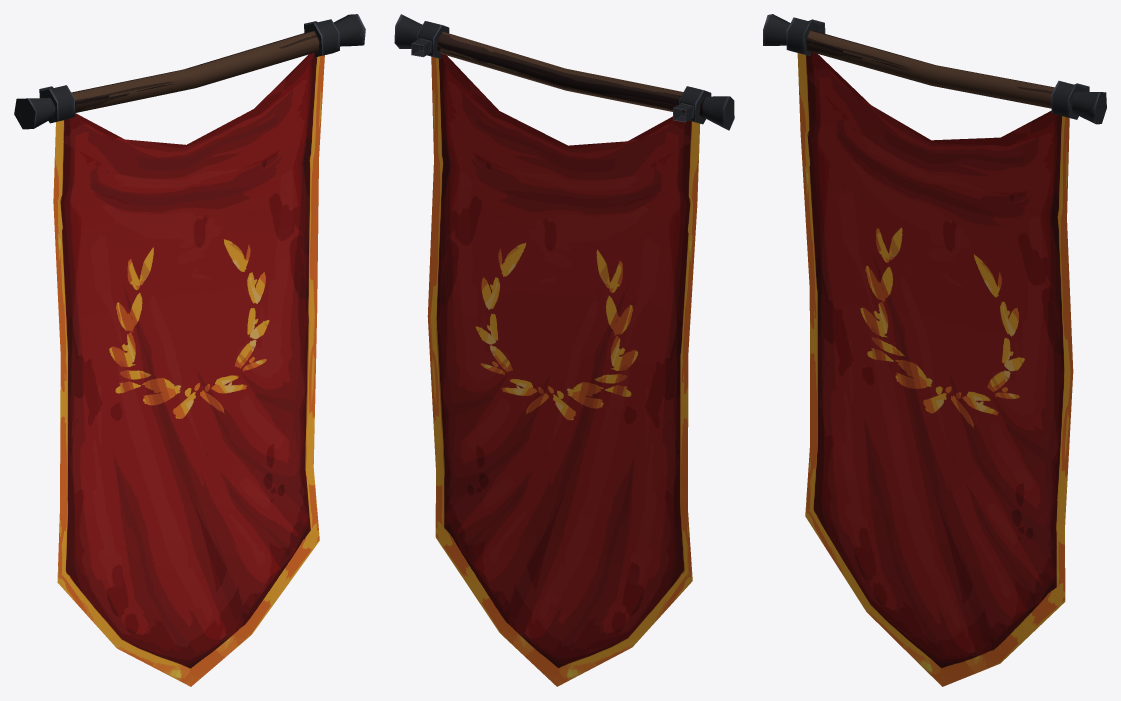
The model's file is SM_PROP_flag_dungeon_04.fbx.
The picture shows the model from 3 angles, left to right: view 1: azimuth 30°, elevation 25°; view 2: azimuth 150°, elevation 25°; view 3: azimuth 330°, elevation 25°; orthographic projection.
Parts seen in each view (by area): view 1: SM_PROP_flag_dungeon_04; view 2: SM_PROP_flag_dungeon_04; view 3: SM_PROP_flag_dungeon_04.
Part boxes in pixels (bbox=[...]): SM_PROP_flag_dungeon_04: bbox=[14, 14, 365, 686]; SM_PROP_flag_dungeon_04: bbox=[394, 14, 734, 686]; SM_PROP_flag_dungeon_04: bbox=[763, 14, 1106, 686].
Size of the model in its own units: 125 by 226 by 14.63.
